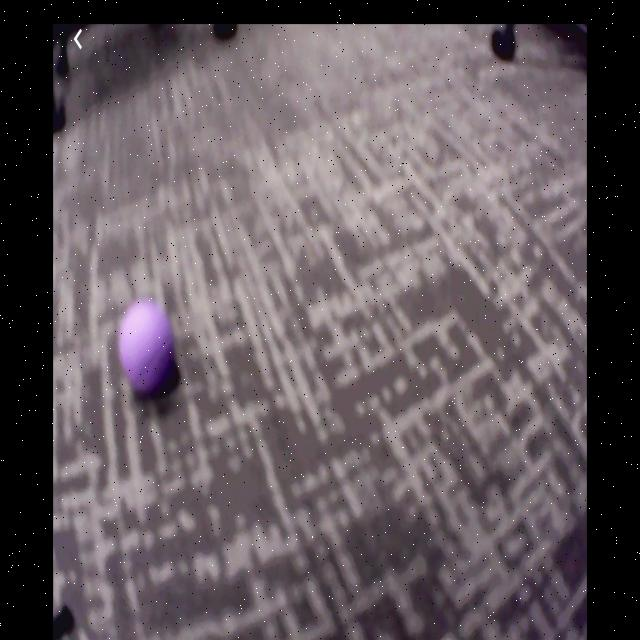ball: (117, 299, 177, 396)
